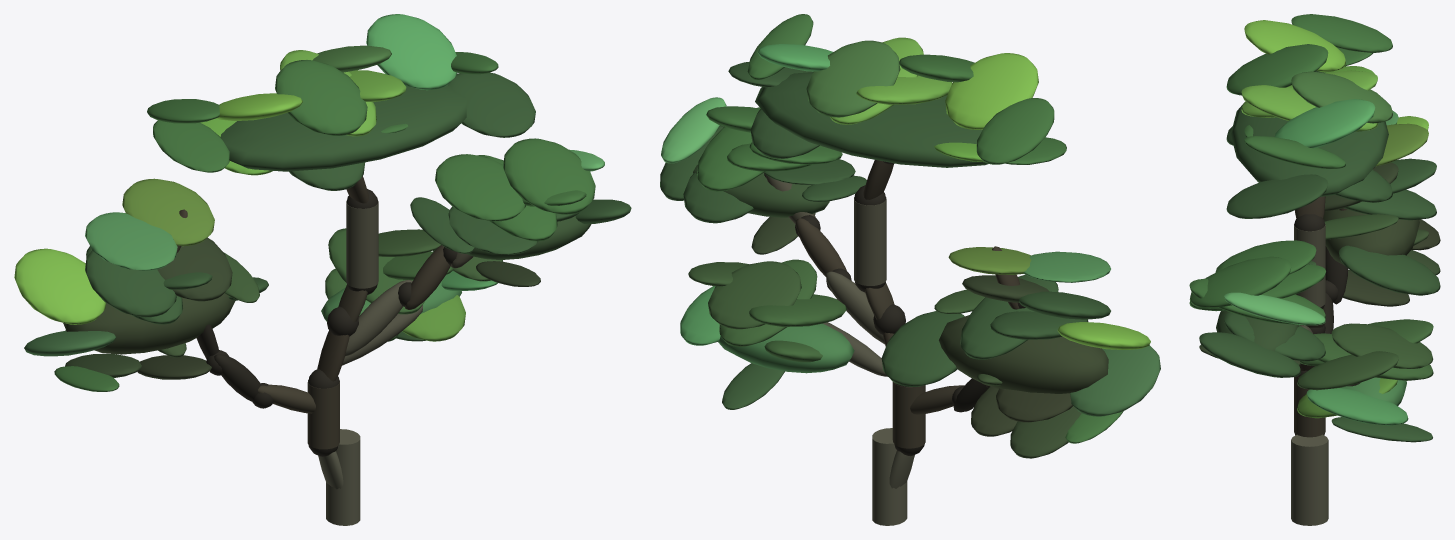
The model's file is CMU3DRMCBushk1.glb.
3 views of the same model, side by side, from view 1: azimuth 30°, elevation 25°; view 2: azimuth 150°, elevation 25°; view 3: azimuth 270°, elevation 25° (orthographic). The views are drawn at different scales.
Visible parts, largest first — view 1: canopy 0 irregular shaded core, canopy 0 source leaf patch 0, canopy 1 source leaf patch 2, canopy 0 source leaf patch 2, canopy 2 source leaf patch 0, canopy 1 irregular shaded core, canopy 2 source leaf patch 2, canopy 1 source leaf patch 6, canopy 0 source leaf patch 8, canopy 1 source leaf patch 8, canopy 1 source leaf patch 0, canopy 0 source leaf patch 10 (+33 smaller); view 2: canopy 0 irregular shaded core, canopy 1 irregular shaded core, canopy 0 source leaf patch 1, canopy 0 source leaf patch 3, canopy 3 source leaf patch 1, canopy 1 source leaf patch 1, canopy 1 source leaf patch 3, canopy 0 source leaf patch 9, canopy 3 irregular shaded core, canopy 1 overlapping crown leaf 1, source branch 0 segment 4, visible rooted trunk (+47 smaller); view 3: canopy 0 irregular shaded core, visible rooted trunk, canopy 0 source leaf patch 8, canopy 1 source leaf patch 1, canopy 0 source leaf patch 2, canopy 2 source leaf patch 0, canopy 0 source leaf patch 0, canopy 3 source leaf patch 1, canopy 2 source leaf patch 3, canopy 3 source leaf patch 4, canopy 0 source leaf patch 1, canopy 3 source leaf patch 3 (+33 smaller).
Boxes of the visible parts, x1,y1,x2,y2 form: canopy 0 irregular shaded core: [220, 85, 467, 171]; canopy 0 source leaf patch 0: [275, 60, 367, 135]; canopy 1 source leaf patch 2: [14, 248, 106, 324]; canopy 0 source leaf patch 2: [366, 14, 457, 90]; canopy 2 source leaf patch 0: [503, 138, 595, 214]; canopy 1 irregular shaded core: [63, 293, 235, 354]; canopy 2 source leaf patch 2: [435, 154, 526, 221]; canopy 1 source leaf patch 6: [122, 178, 214, 246]; canopy 0 source leaf patch 8: [448, 72, 535, 137]; canopy 1 source leaf patch 8: [85, 212, 177, 270]; canopy 1 source leaf patch 0: [85, 250, 176, 317]; canopy 0 source leaf patch 10: [153, 120, 229, 172]; canopy 0 irregular shaded core: [755, 72, 988, 167]; canopy 1 irregular shaded core: [939, 315, 1108, 393]; canopy 0 source leaf patch 1: [806, 40, 900, 117]; canopy 0 source leaf patch 3: [945, 53, 1038, 129]; canopy 3 source leaf patch 1: [708, 261, 801, 329]; canopy 1 source leaf patch 1: [881, 311, 964, 386]; canopy 1 source leaf patch 3: [1070, 345, 1160, 416]; canopy 0 source leaf patch 9: [976, 98, 1054, 164]; canopy 3 irregular shaded core: [718, 323, 854, 373]; canopy 1 overlapping crown leaf 1: [960, 274, 1058, 359]; source branch 0 segment 4: [854, 197, 886, 285]; visible rooted trunk: [872, 428, 907, 525]; canopy 0 irregular shaded core: [1230, 71, 1388, 196]; visible rooted trunk: [1291, 434, 1328, 525]; canopy 0 source leaf patch 8: [1226, 174, 1328, 218]; canopy 1 source leaf patch 1: [1339, 245, 1440, 295]; canopy 0 source leaf patch 2: [1274, 99, 1375, 148]; canopy 2 source leaf patch 0: [1190, 256, 1291, 308]; canopy 0 source leaf patch 0: [1226, 44, 1328, 95]; canopy 3 source leaf patch 1: [1331, 323, 1433, 368]; canopy 2 source leaf patch 3: [1199, 332, 1300, 377]; canopy 3 source leaf patch 4: [1297, 351, 1398, 390]; canopy 0 source leaf patch 1: [1291, 71, 1392, 123]; canopy 3 source leaf patch 3: [1306, 388, 1408, 425].
Bounding box in the file's own units: 0.8674 × 0.7162 × 0.3624.
